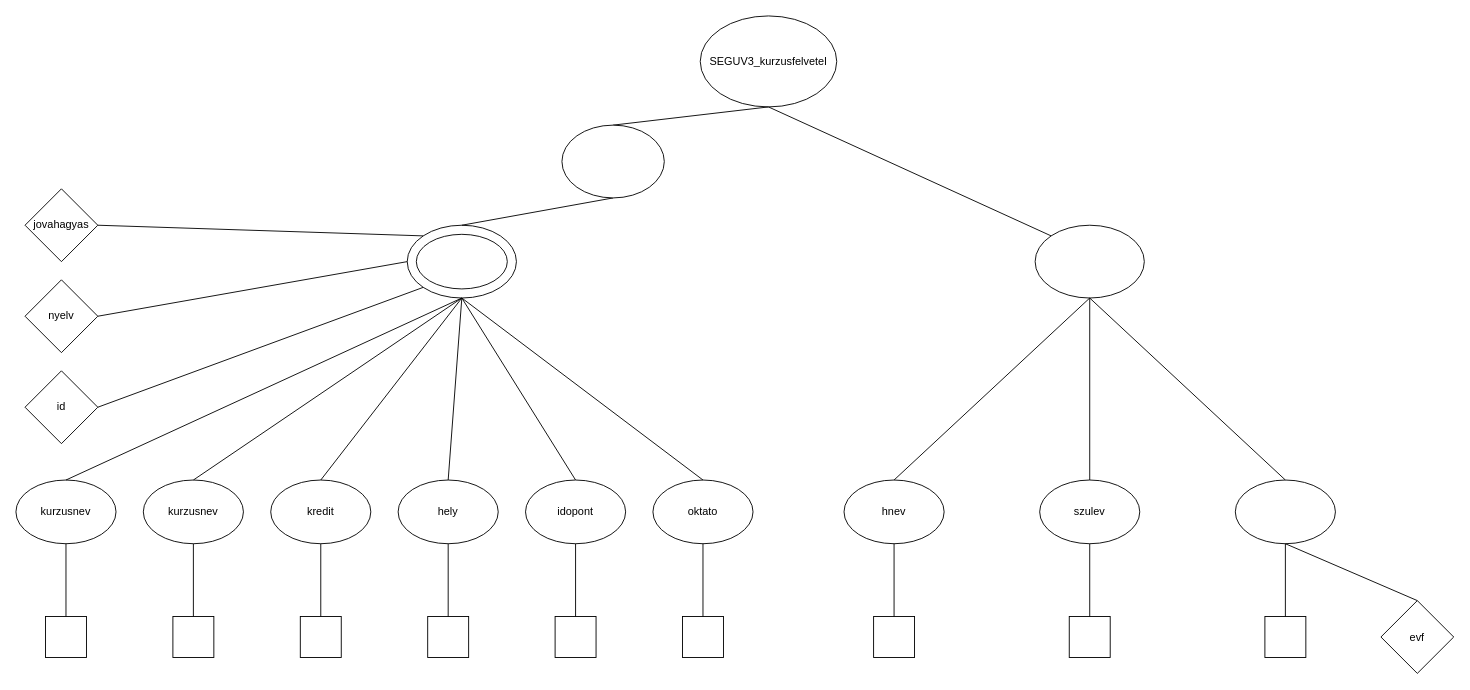
This 1470x690 diagram has some shape labels left out. Each missing label, with the centre of its shape:
hallgato: (1089,261)
kurzus: (461,261)
kurzusok: (612,161)
szak: (1284,511)
